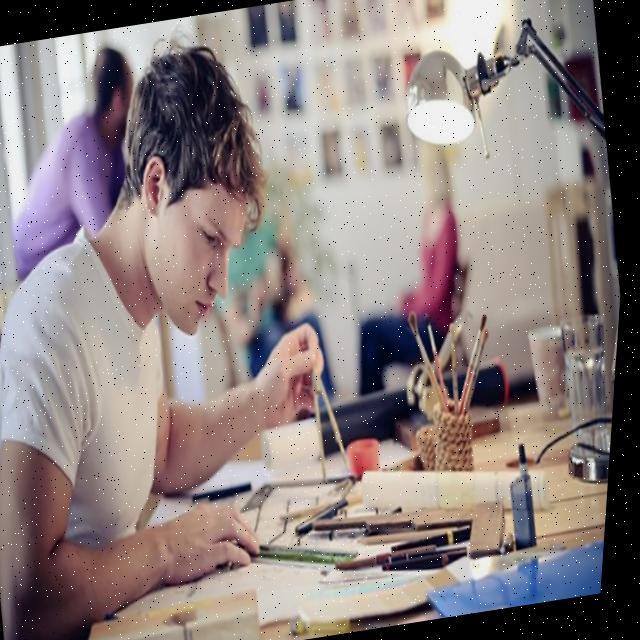studying-person: (0, 2, 582, 640)
